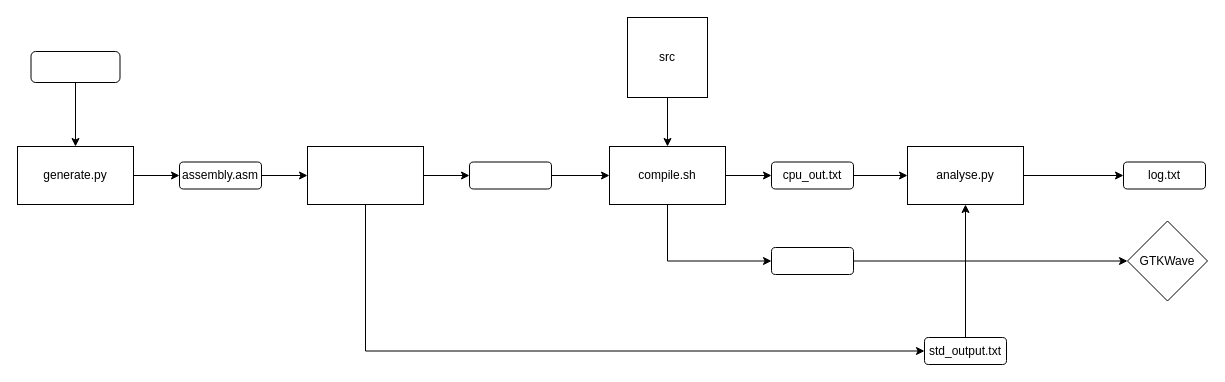
The diagram is 1225 pixels wide and 382 high, and some of its shapes have lost their labels. Each missing label, with the centre of its shape:
"assemble.sh" belongs at (x=365, y=175).
"code.txt" belongs at (x=510, y=175).
"tester_config.txt" belongs at (x=75, y=66).
"wave.vcd" belongs at (x=812, y=260).
